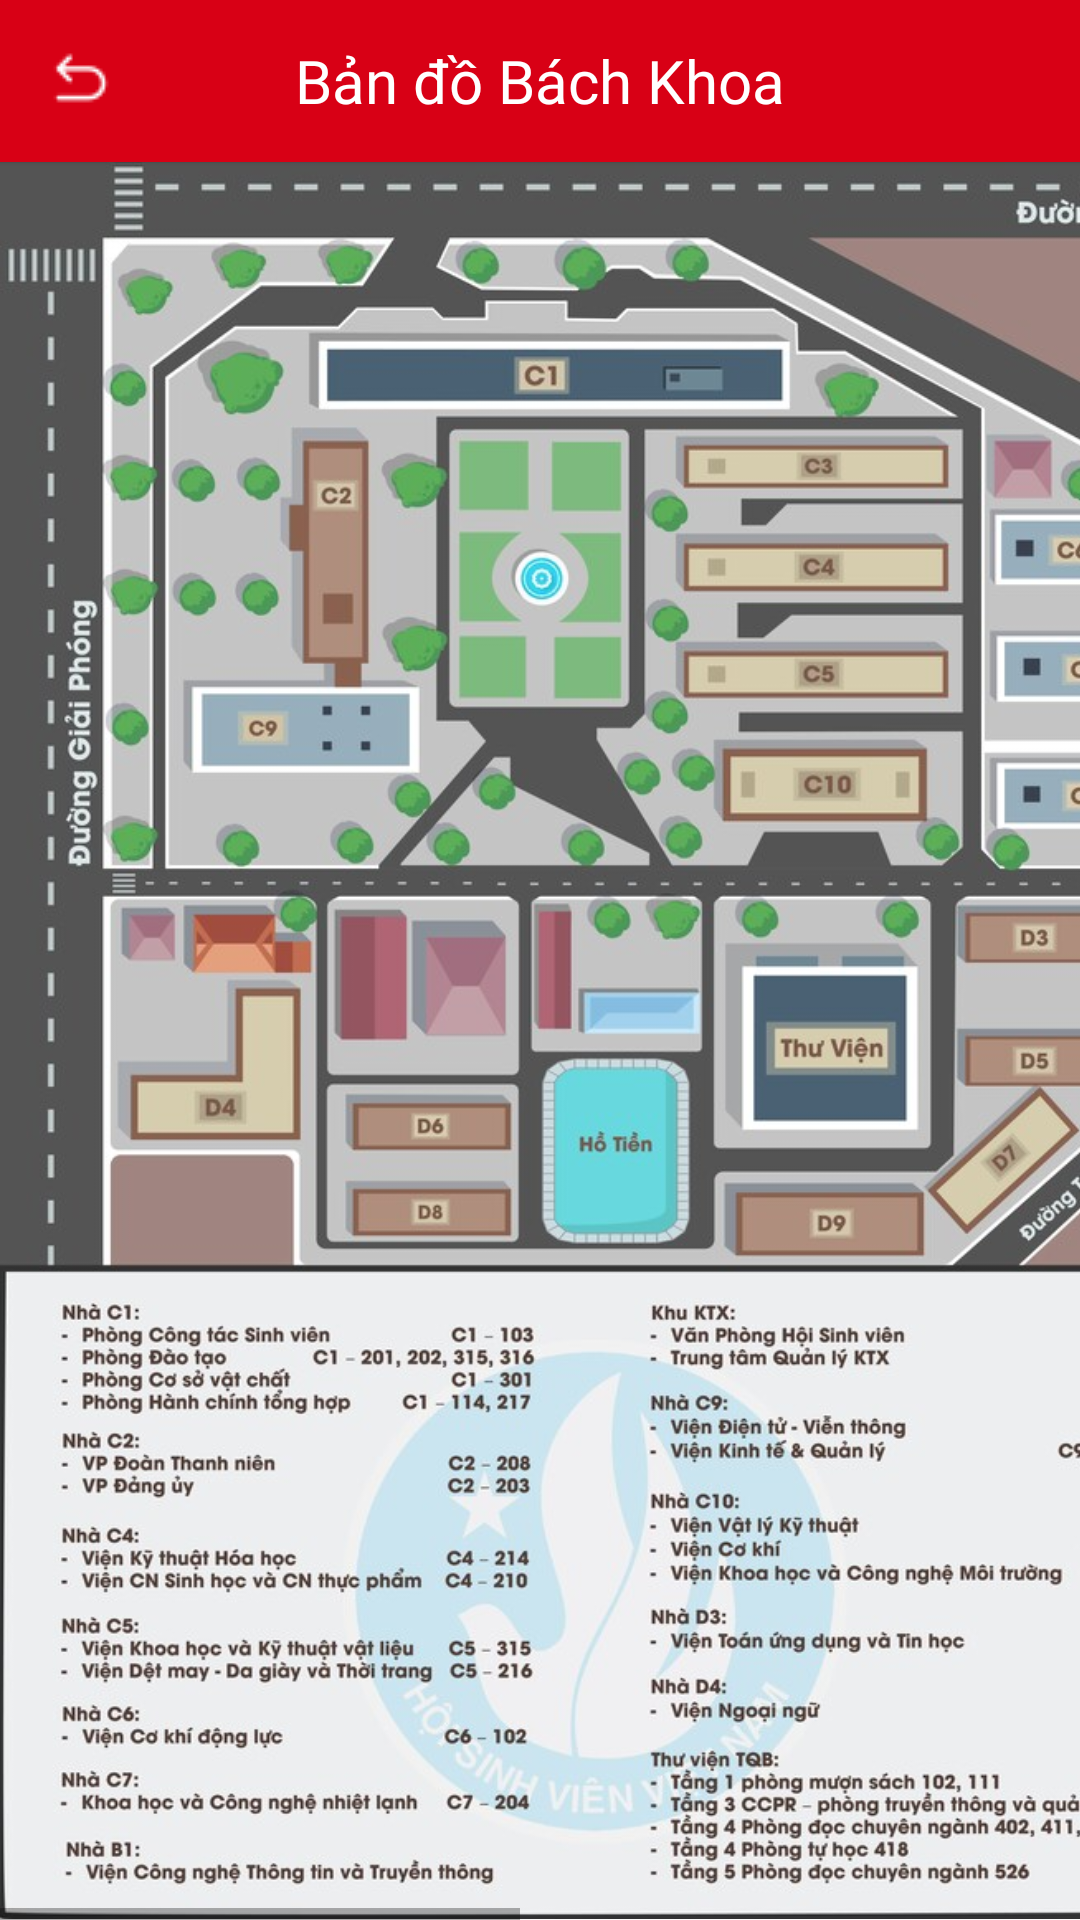

Icons on this 1080 × 1920 Android screen, each with its box as (x1, y1, x2, y2):
return: (55, 53, 108, 103)
